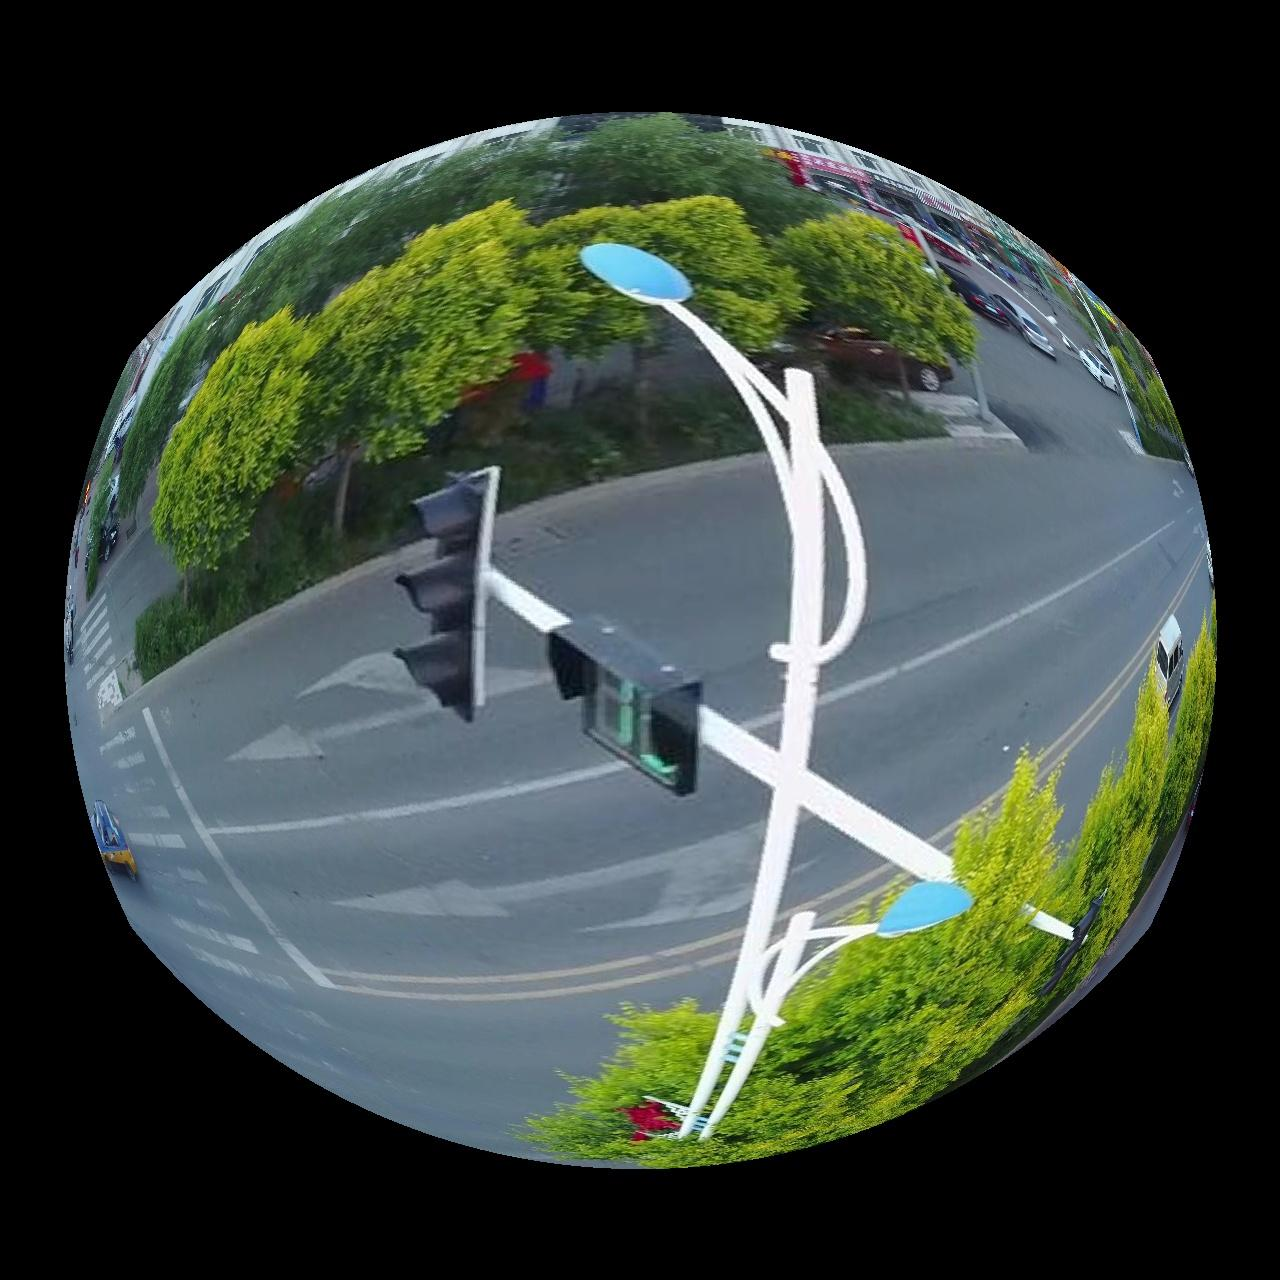cars: (942, 264, 1012, 326), (995, 293, 1058, 359), (89, 803, 136, 880), (1155, 614, 1190, 708), (1080, 348, 1121, 392)
trees: (529, 622, 1217, 1169), (120, 111, 840, 512), (297, 200, 535, 539), (524, 195, 806, 354), (150, 306, 318, 570), (776, 210, 978, 367), (1133, 346, 1192, 464)
